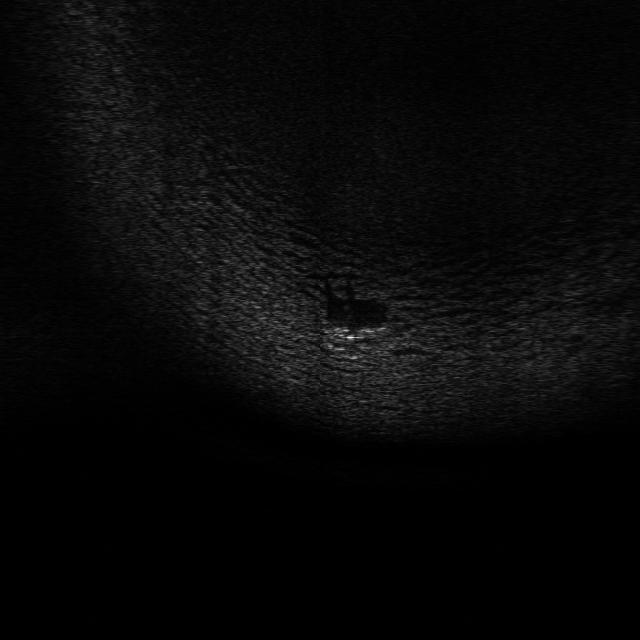plane: (326, 320, 388, 343)
